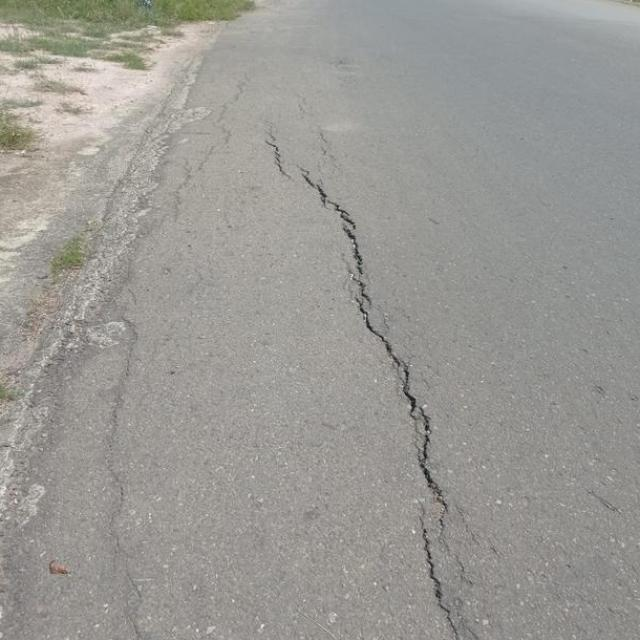Memanjang: (247, 136, 473, 623)
